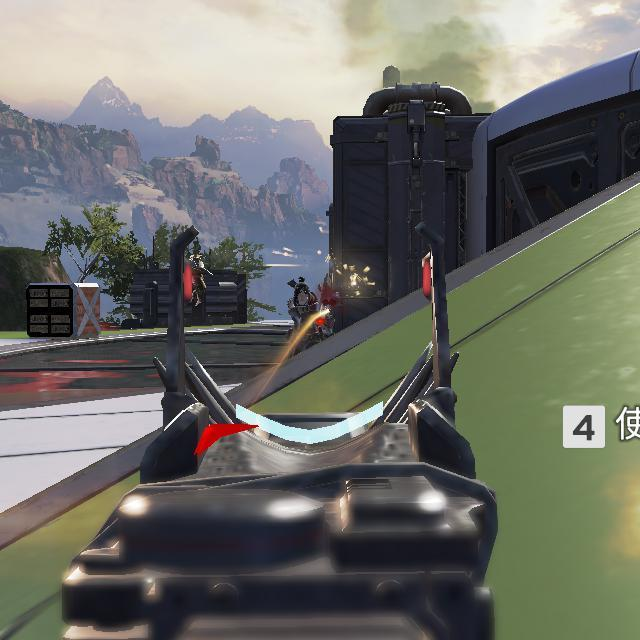avatar: (284, 275, 323, 360)
